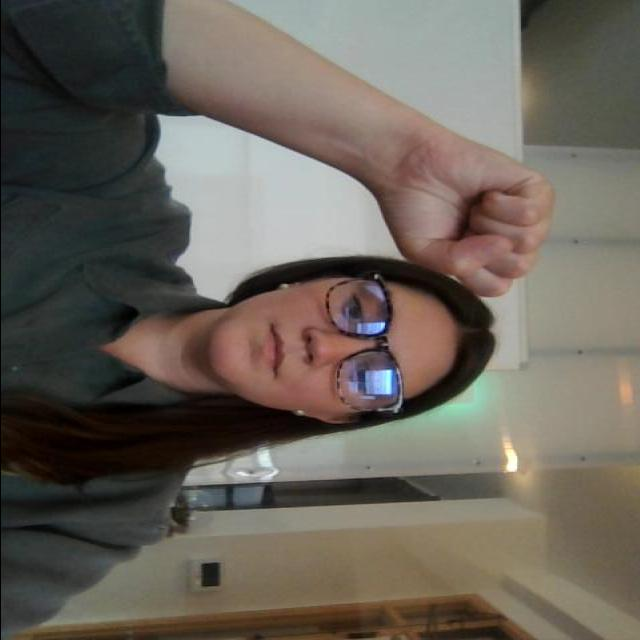Rock: (380, 126, 570, 308)
